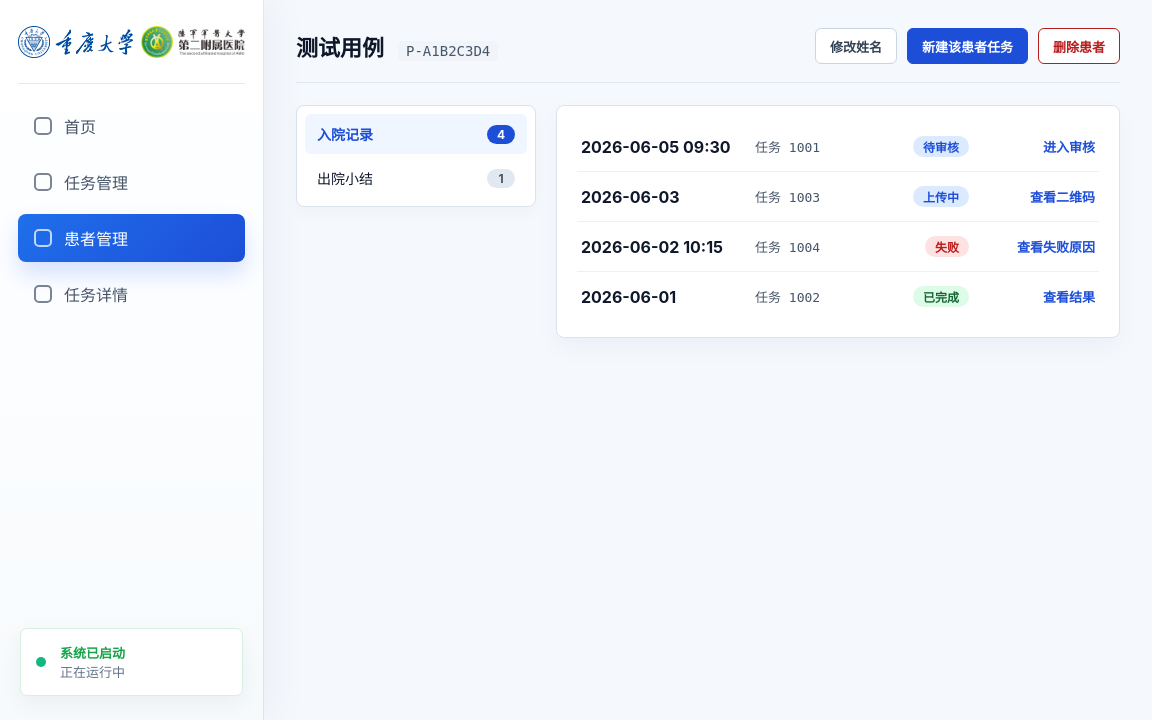
PatientDetailPage › loads review result on demand when a review task is expanded
This screenshot has width=1152, height=720.
Check: the text "入院记录" is shown, box [317,126,373,143]
Step 1. Click the button with test id "patient-record-task-1001" → [656, 146], box [577,122,1099,171]
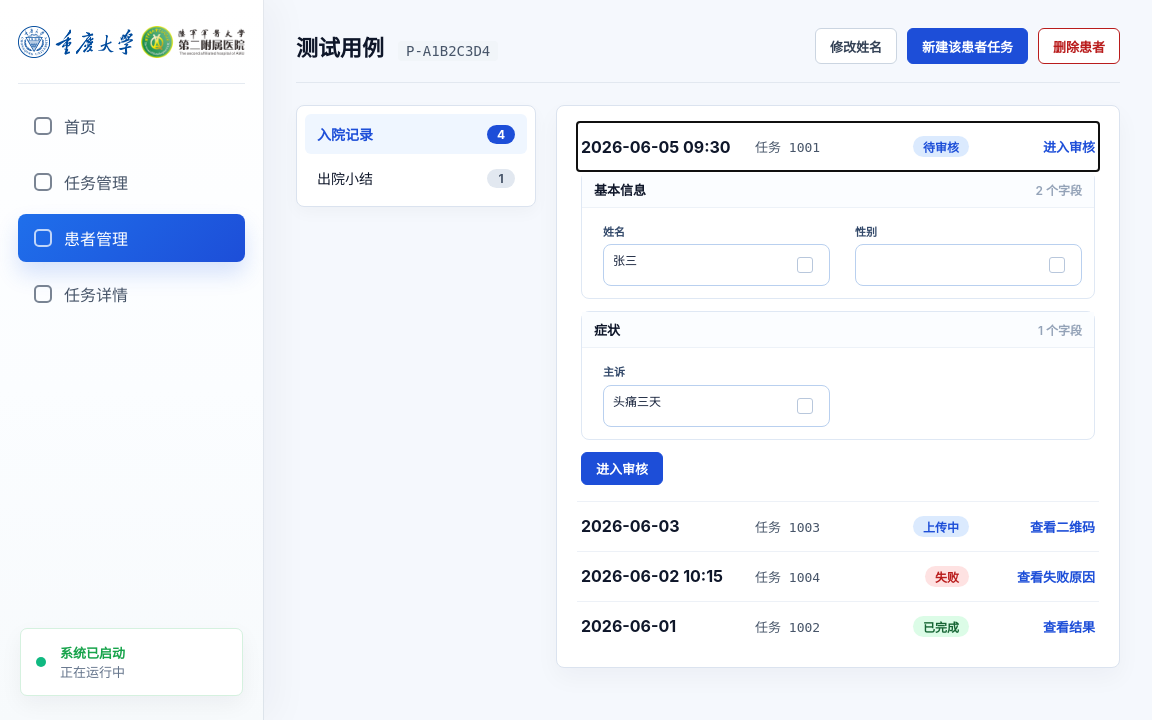
Check: the heading "基本信息" is shown, box [594,180,646,199]
Check: the heading "症状" is shown, box [594,320,620,339]
Check: the text box "张三" is shown, box [607,248,791,282]
